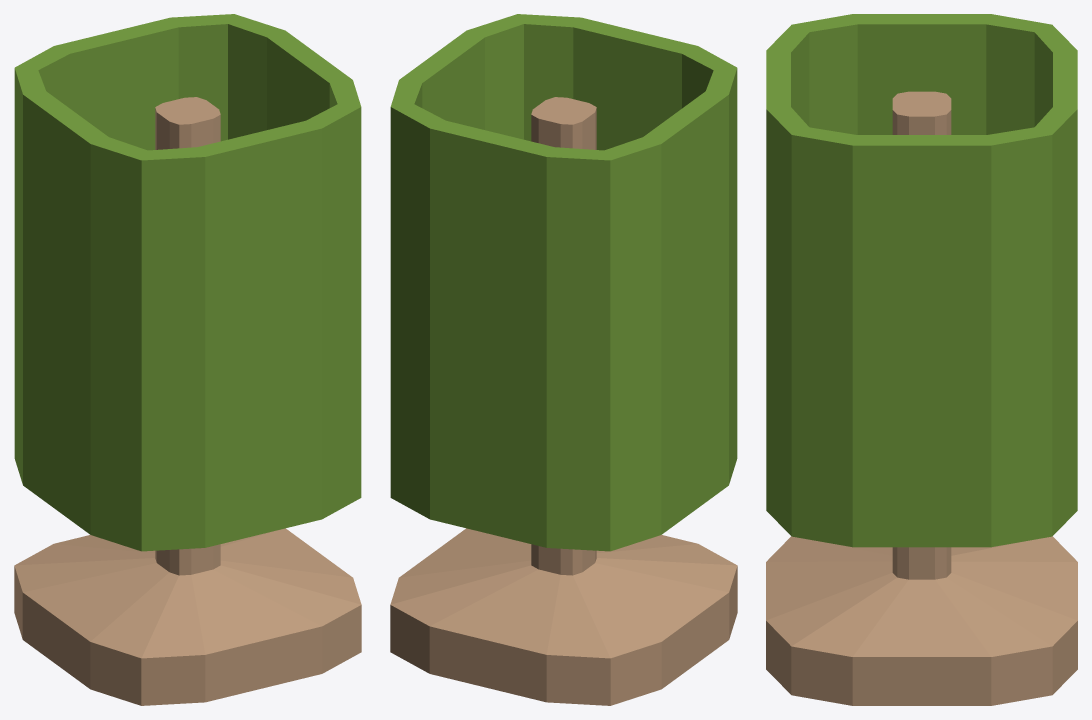
File: BedLamp.fbx
3 views of the same model, side by side, from view 1: azimuth 30°, elevation 25°; view 2: azimuth 150°, elevation 25°; view 3: azimuth 270°, elevation 25° (orthographic). The views are drawn at different scales.
Parts seen in each view (by area): view 1: BedLamp; view 2: BedLamp; view 3: BedLamp.
Part boxes in pixels (x1,y1,x2,y2): BedLamp: [14, 14, 361, 705]; BedLamp: [390, 14, 737, 705]; BedLamp: [766, 14, 1077, 705].
Size of the model in its own units: 0.0869 by 0.1724 by 0.0869.
Materials: 1 (1 with a texture image).
